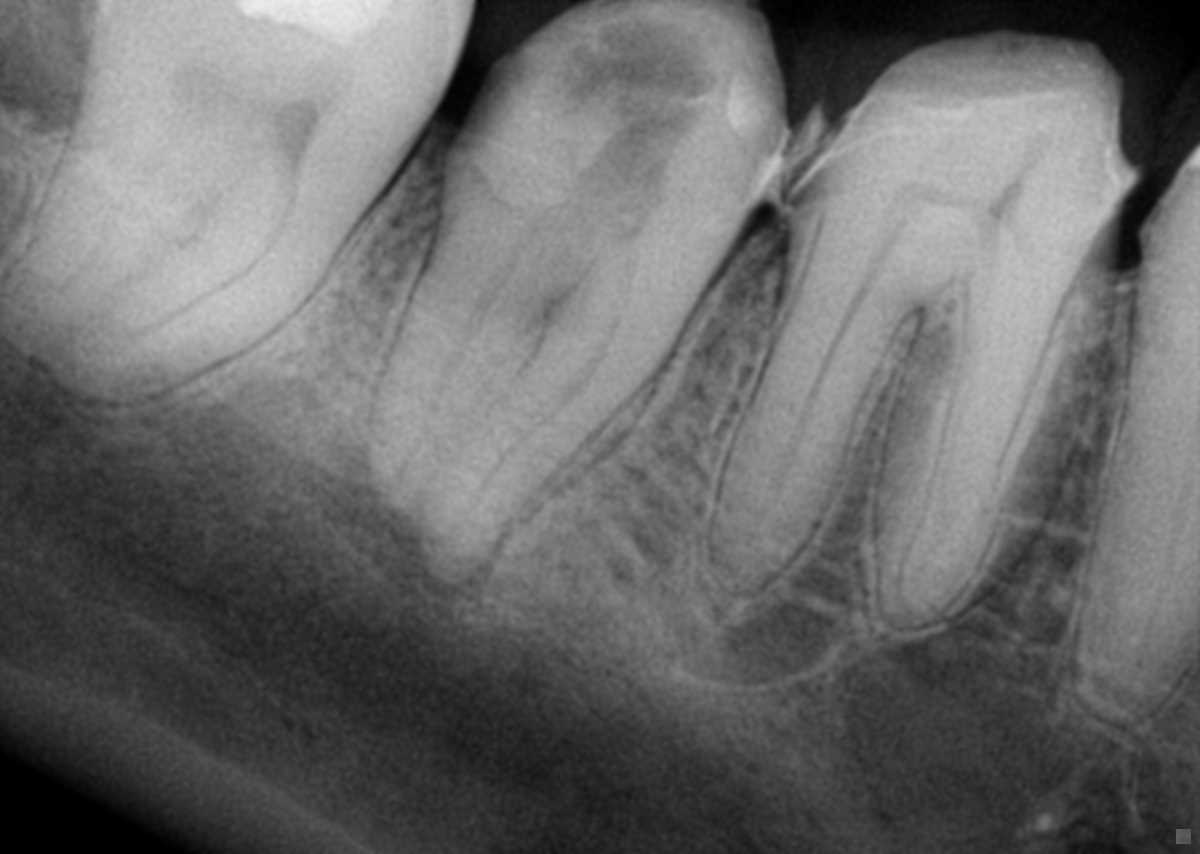Apical Lesion: (327, 451, 504, 615)
Distal Canal: (385, 221, 532, 494), (765, 259, 883, 511), (59, 134, 184, 296)
Distal Root: (708, 221, 935, 608), (373, 175, 571, 524), (0, 87, 225, 368)
Main Canal: (1135, 458, 1200, 678)
Main Root: (1075, 313, 1200, 727)
Mesial Canal: (447, 260, 642, 550), (98, 148, 303, 359)
Mesial Root: (421, 251, 708, 587), (58, 140, 396, 402), (874, 289, 1115, 633)
decay: (539, 18, 717, 237)
